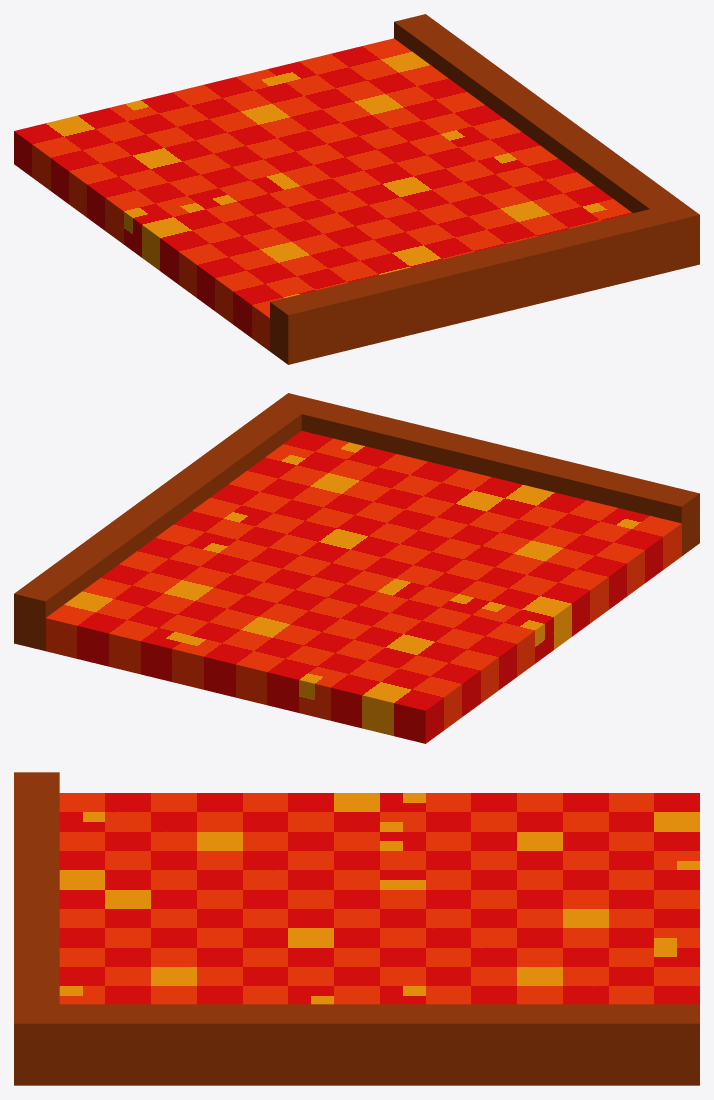
The model's file is Content.obj.
3 views of the same model, one above another, from view 1: azimuth 30°, elevation 25°; view 2: azimuth 150°, elevation 25°; view 3: azimuth 270°, elevation 25° (orthographic). The views are drawn at different scales.
Parts seen in each view (by area): view 1: Model; view 2: Model; view 3: Model.
Part boxes in pixels (box(x1,y1,x2,y2)): Model: box(14, 14, 699, 364); Model: box(14, 393, 699, 743); Model: box(14, 772, 699, 1085).
Bounding box in the file's own units: 27.73 × 3.2 × 32.
Materials: 1 (1 with a texture image).
